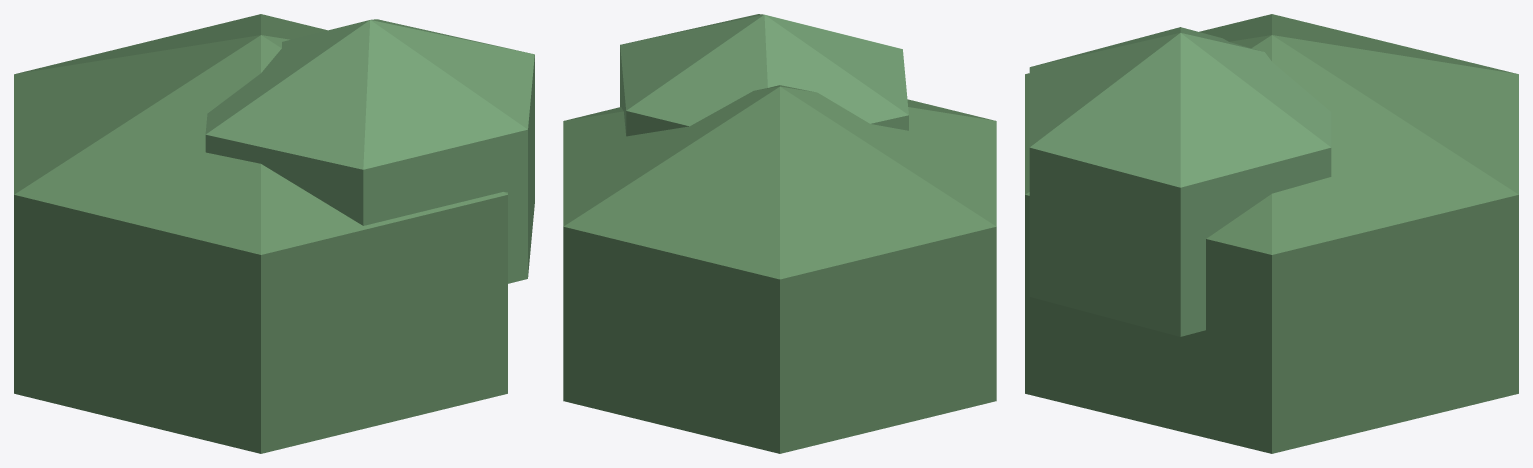
File: bush.glb
3 views of the same model, side by side, from view 1: azimuth 30°, elevation 25°; view 2: azimuth 150°, elevation 25°; view 3: azimuth 270°, elevation 25° (orthographic). The views are drawn at different scales.
Visible parts, largest first — view 1: bush; view 2: bush; view 3: bush.
Part boxes in pixels (x1=…): bush: x1=14, y1=14, x2=534, y2=453; bush: x1=563, y1=14, x2=996, y2=453; bush: x1=1025, y1=14, x2=1518, y2=453.
Bounding box in the file's own units: 1.95 × 1.62 × 1.69.
